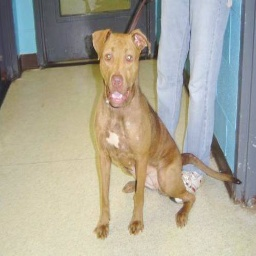dog: (82, 24, 241, 240)
